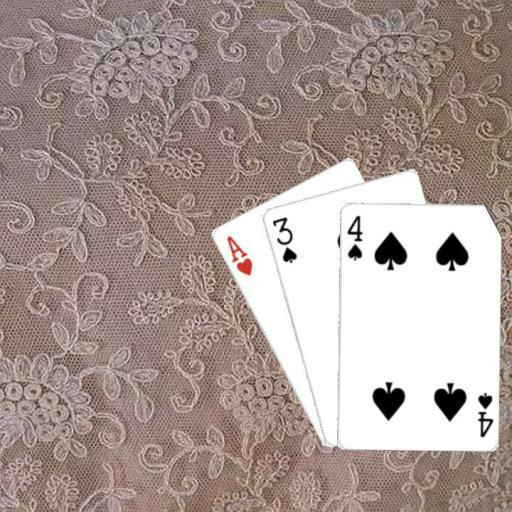3S: (268, 214, 299, 265)
4S: (344, 212, 364, 262), (475, 389, 495, 439)
AH: (222, 232, 254, 277)
